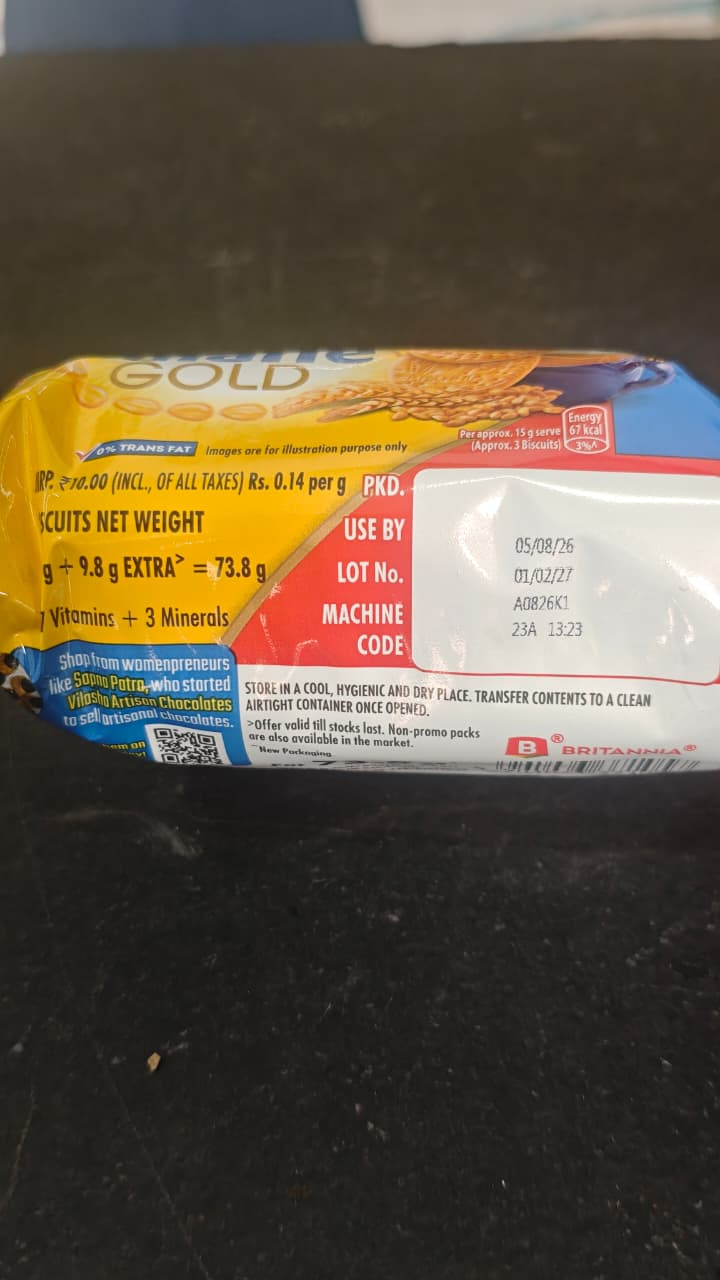Brand: (507, 731, 701, 761)
EXP_Date: (496, 566, 599, 590)
MFG_Date: (488, 526, 595, 559)
